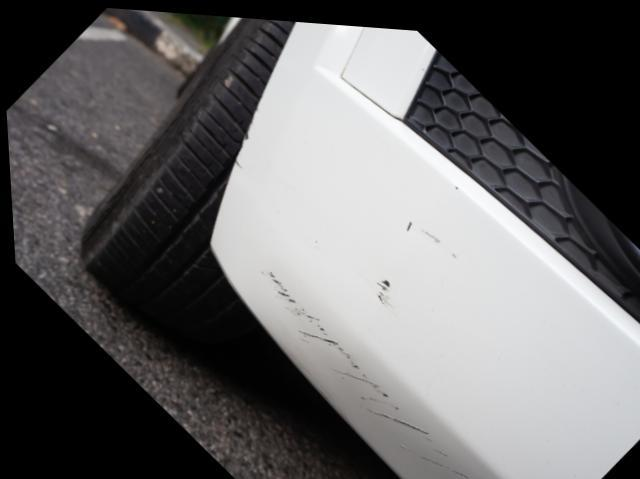scratch: (258, 264, 473, 479), (393, 211, 461, 254), (370, 272, 392, 310)
